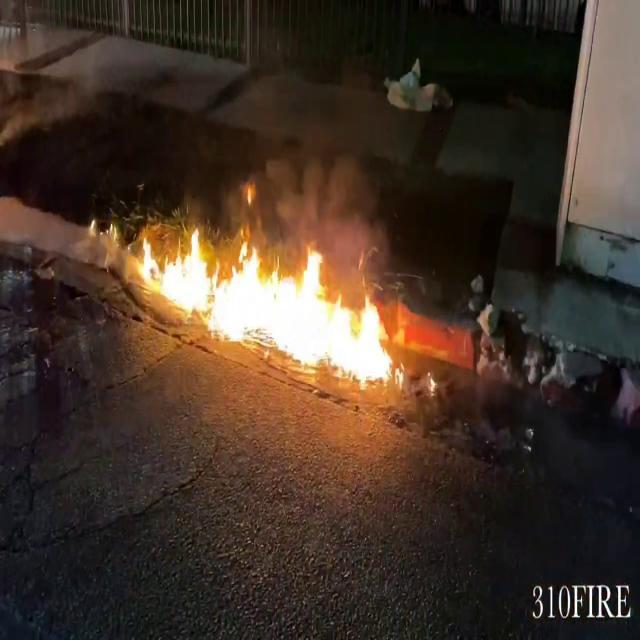Fire: (136, 216, 404, 384)
